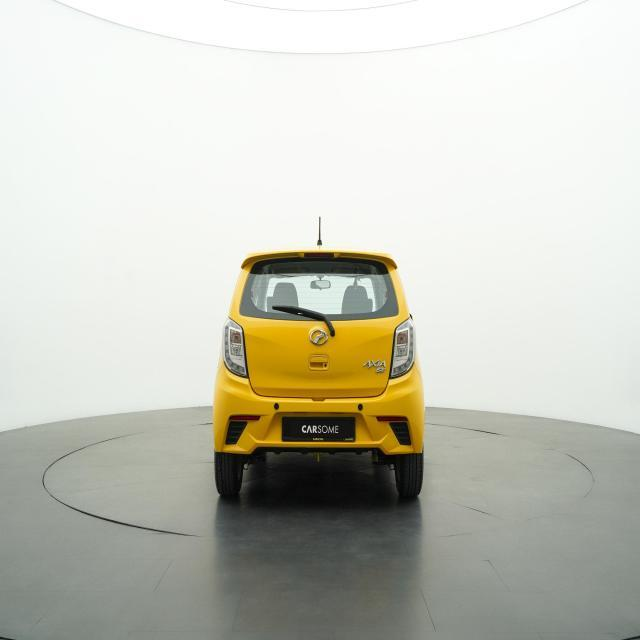PeroduaAxia: (210, 217, 426, 500)
